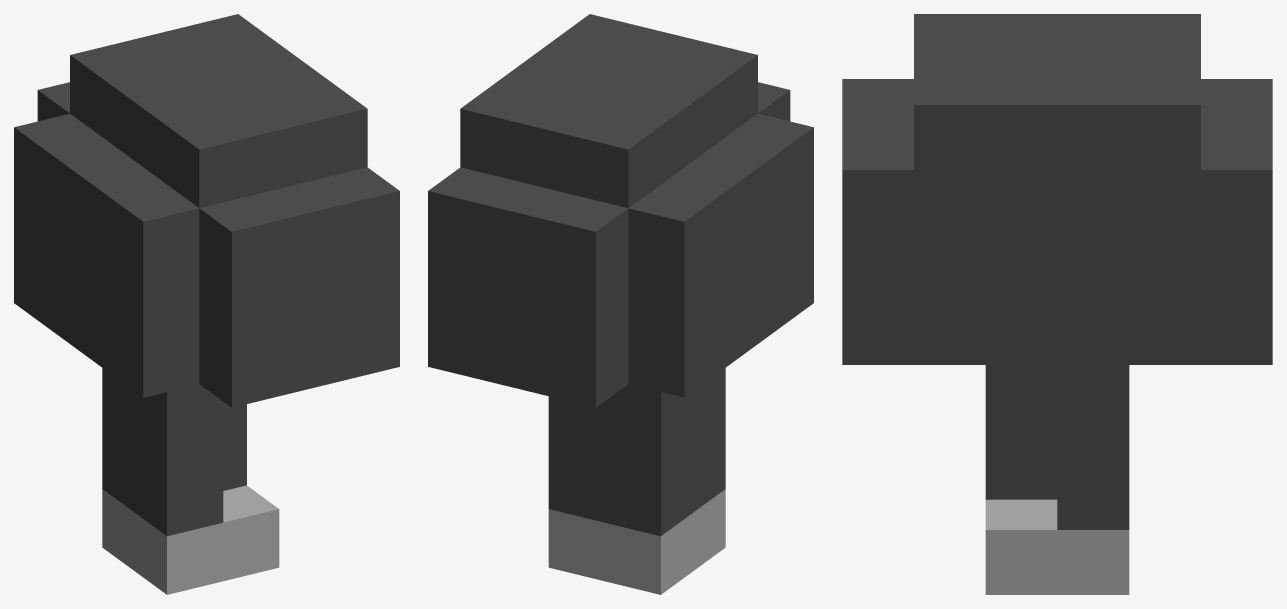
Rendered from PlayerDark-3-Player_RArm.obj.
3 renders of one model, left to right at view 1: azimuth 30°, elevation 25°; view 2: azimuth 150°, elevation 25°; view 3: azimuth 270°, elevation 25°, orthographic. The views are drawn at different scales.
Parts seen in each view (by area): view 1: Player_RArm; view 2: Player_RArm; view 3: Player_RArm.
Part boxes in pixels (left/top/right/bottom): Player_RArm: left=14, top=14, right=399, bottom=594; Player_RArm: left=428, top=14, right=813, bottom=594; Player_RArm: left=842, top=14, right=1272, bottom=594.
Size of the model in its own units: 0.8 by 1.6 by 1.2.
1 material, 1 textured.
